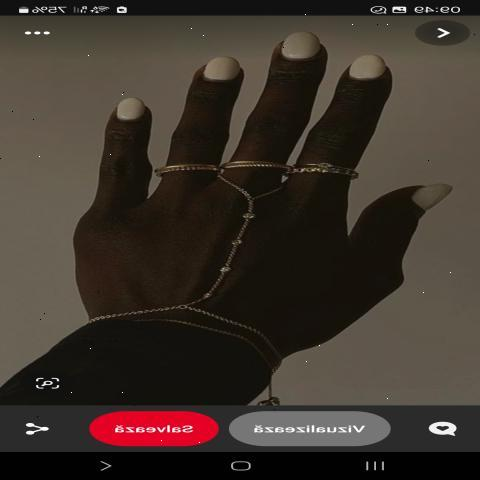Hands: (44, 25, 448, 356)
